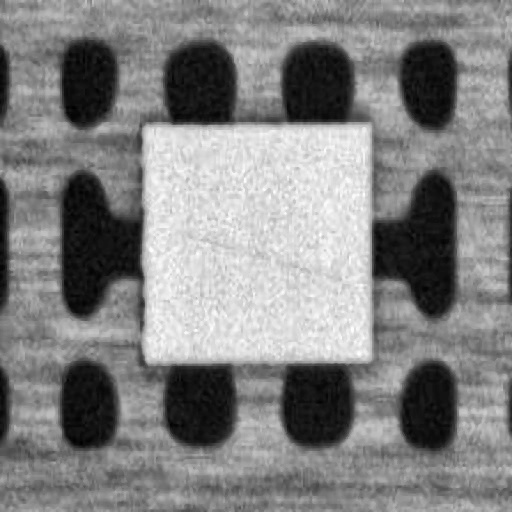DIE_CRACK: (260, 152, 507, 184)
